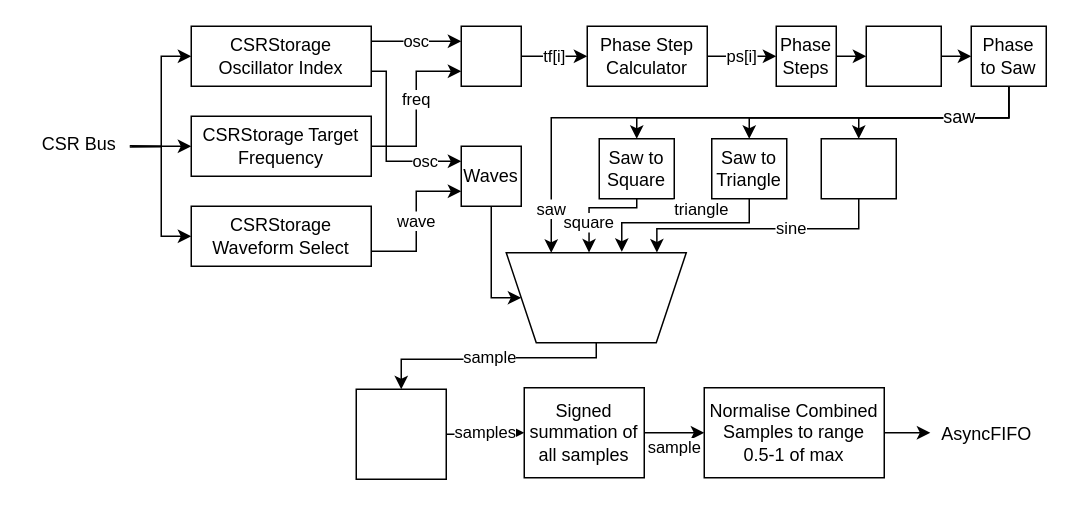
Some shapes in this 1086 by 518 pixel diagram are drawn without their labels. Here are the shapes that lost their labels. From the top down, the box of each, then its label:
(460, 25, 521, 86): Target Freq.s
(865, 25, 941, 86): Phases
(820, 137, 896, 199): Saw to Sine
(505, 251, 686, 343): Wave Select
(355, 388, 446, 479): Samples Mem
